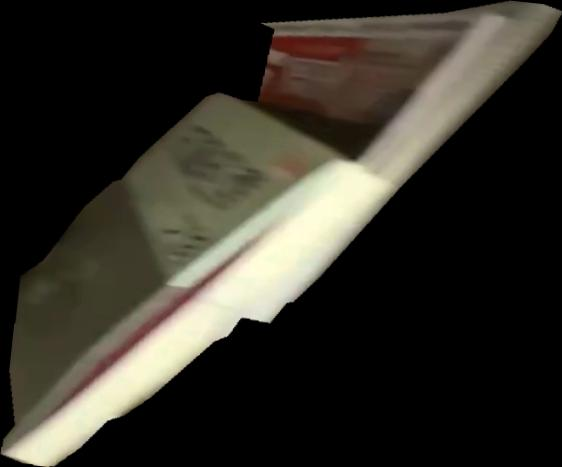backward: (1, 1, 562, 467)
